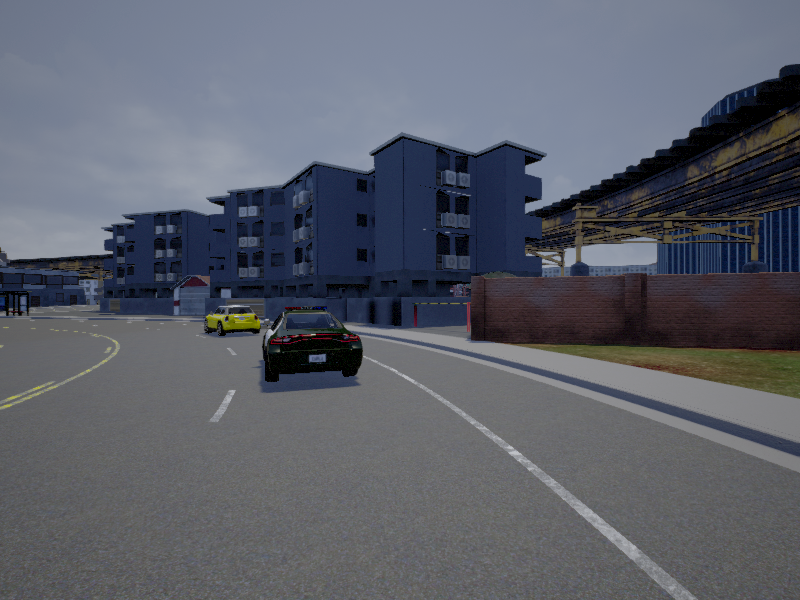Benign: (262, 308, 362, 382), (207, 303, 261, 335)
